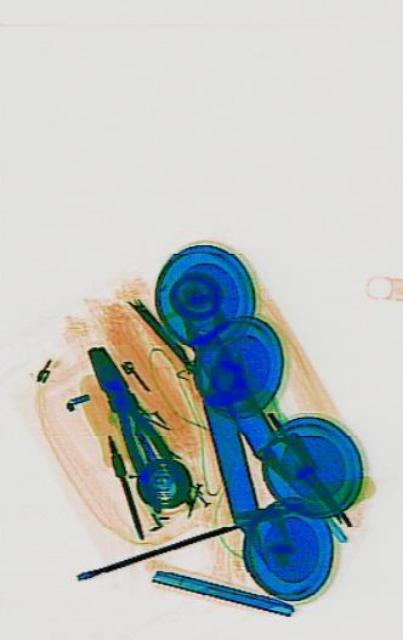Pliers: (76, 329, 189, 523)
